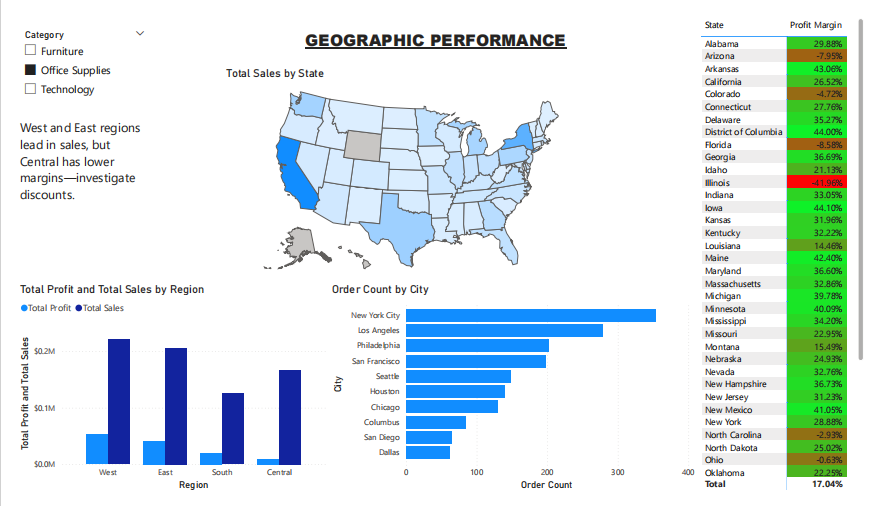

The dashboard page shown, as its layout file describes it:
{"tool":"powerbi","page":{"name":"Regional & State Insights","canvas":[1280,720],"ordinal":2},"visuals":[{"type":"shapeMap","fields":{"Value":["Orders.Total Sales"],"Category":["States.State"]},"box":[311.5,77,565.6,324.6],"z":0},{"type":"clusteredColumnChart","fields":{"Category":["States.Region"],"Y":["Orders.Total Profit","Orders.Total Sales"]},"box":[0,401.6,470.5,318],"z":1000},{"type":"clusteredBarChart","fields":{"Category":["Locations.City"],"Y":["Orders.Order Count"]},"box":[470.5,401.6,555.7,318],"z":2000},{"type":"pivotTable","fields":{"Rows":["States.State"],"Values":["Orders.Profit Margin"]},"box":[1026.2,0,254.1,719.7],"z":3000},{"type":"textbox","box":[0,152.5,204.9,195.1],"z":4000},{"type":"slicer","fields":{"Values":["Products.Category"]},"box":[0,16.4,204.9,136.1],"z":4001},{"type":"textbox","box":[385.2,16.4,491.8,60.7],"z":4002}]}

Visuals, with their boxes in screenshot pixels (x1, y1, x2, y2), scaled from the page's 1280x720 canvas onto the 882x506 screenshot:
shapeMap - Orders.Total Sales x States.State: x1=215 y1=54 x2=604 y2=282
clusteredColumnChart - States.Region x Orders.Total Profit: x1=0 y1=282 x2=324 y2=505
clusteredBarChart - Locations.City x Orders.Order Count: x1=324 y1=282 x2=707 y2=505
pivotTable - States.State x Orders.Profit Margin: x1=707 y1=0 x2=881 y2=505
textbox: x1=0 y1=107 x2=141 y2=244
slicer - Products.Category: x1=0 y1=12 x2=141 y2=107
textbox: x1=265 y1=12 x2=604 y2=54
